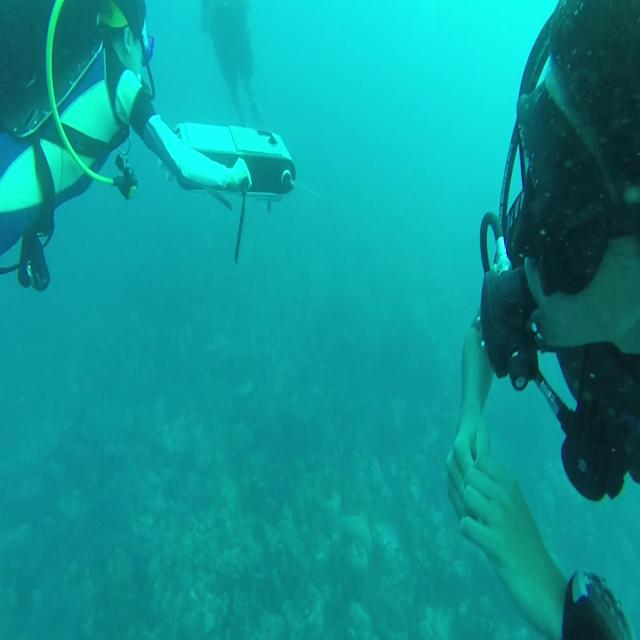human: (445, 0, 639, 638), (1, 0, 253, 292)
